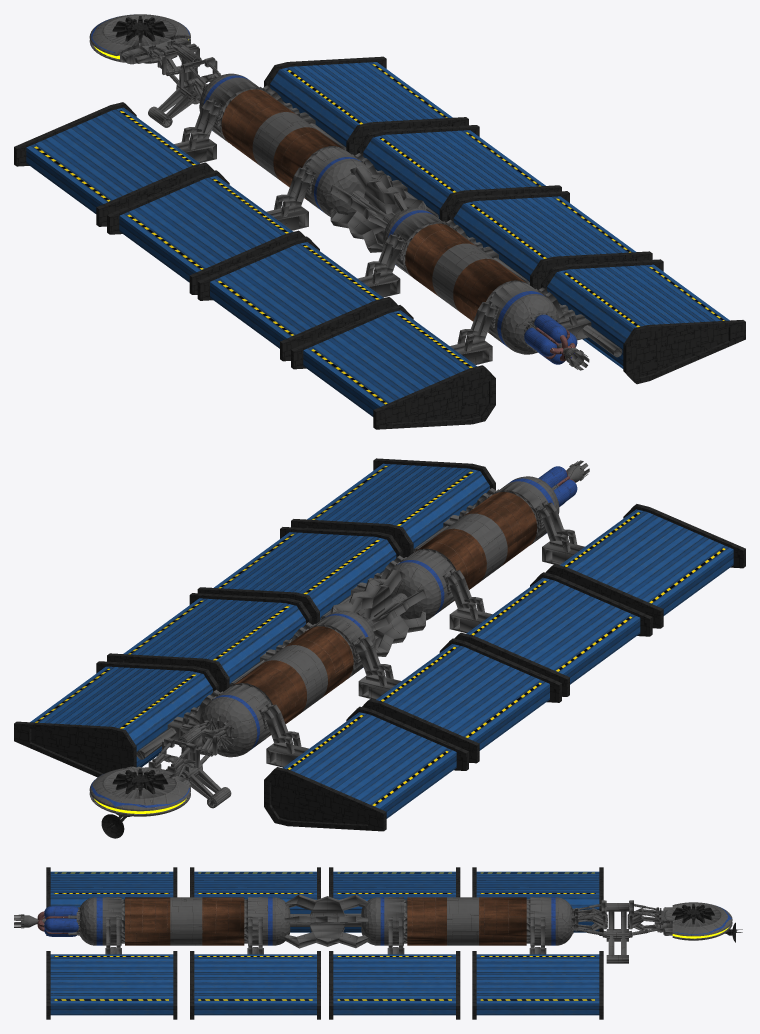
Rendered from corporate-freighter.glb.
The picture shows the model from 3 angles, top to bottom: view 1: azimuth 30°, elevation 25°; view 2: azimuth 150°, elevation 25°; view 3: azimuth 270°, elevation 25°; orthographic projection. The views are drawn at different scales.
Visible parts, largest first — view 1: Cube; view 2: Cube; view 3: Cube.
Boxes of the visible parts, x1,y1,x2,y2 form: Cube: (14, 14, 745, 429); Cube: (14, 458, 745, 838); Cube: (14, 867, 742, 1019).
Bounding box in the file's own units: 194 × 44.72 × 432.
9 materials, 7 textured.
